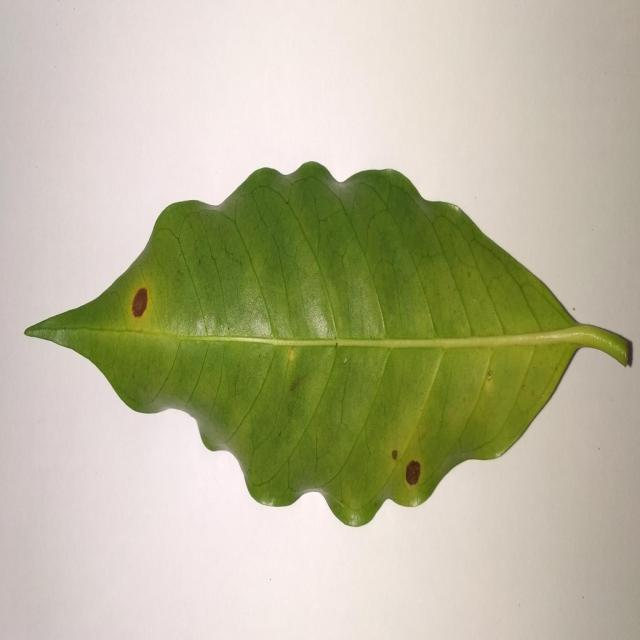Enfermedad-Mancha-de-hierro: (24, 162, 633, 530)
